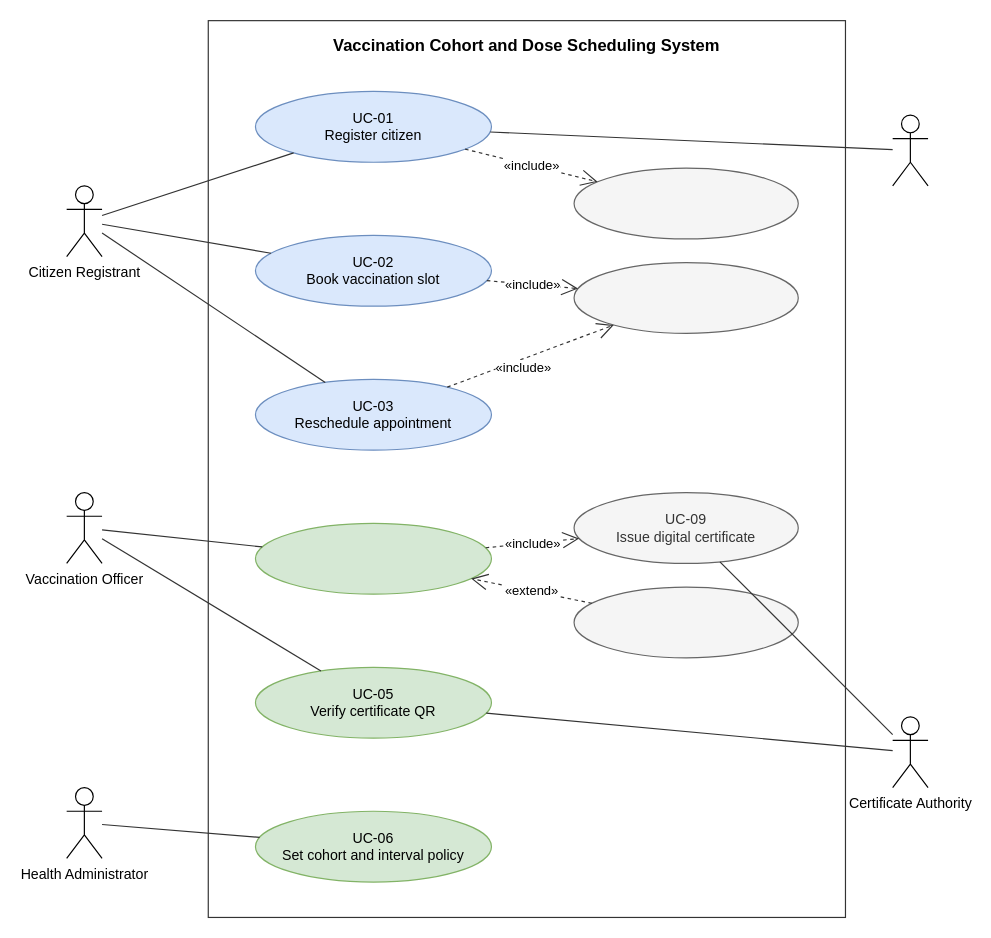
This 991x938 diagram has some shape labels left out. Each missing label, with the box of its shape:
National ID Service: (891, 114, 928, 186)
UC-04 Record dose administration: (254, 522, 491, 594)
UC-07 Assign priority cohort: (573, 167, 798, 239)
UC-08 Verify dose interval: (573, 261, 798, 333)
UC-10 Log adverse event: (573, 586, 798, 658)
